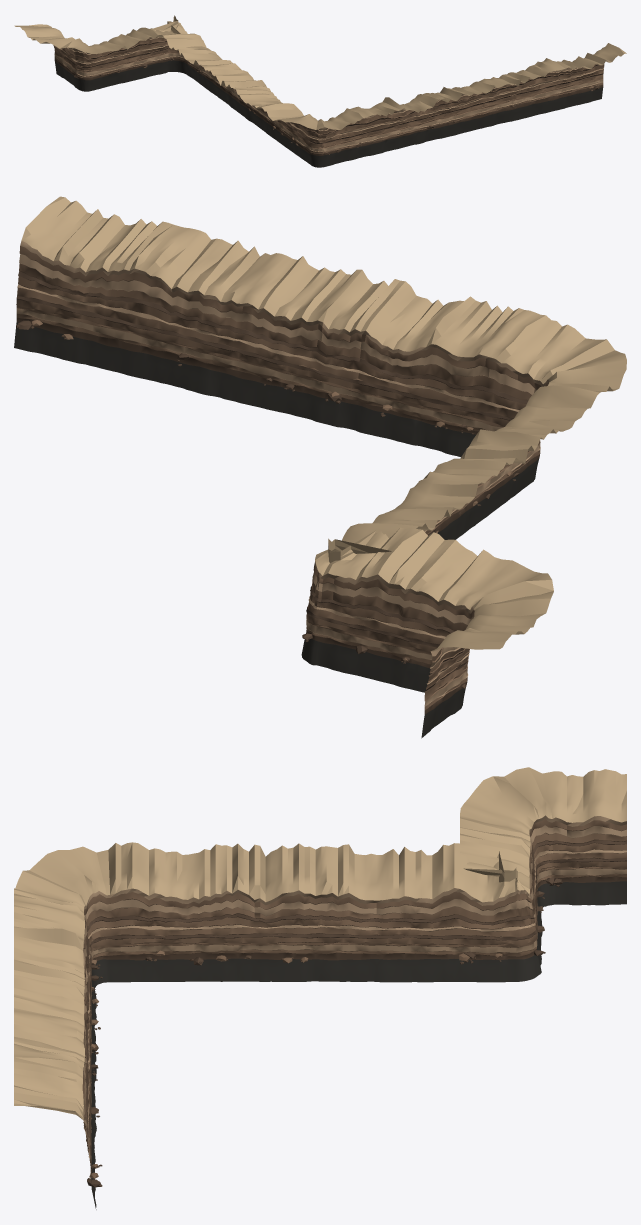
File: borda-quadrante-espelhada.glb
3 views of the same model, one above another, from view 1: azimuth 30°, elevation 25°; view 2: azimuth 150°, elevation 25°; view 3: azimuth 270°, elevation 25° (orthographic). The views are drawn at different scales.
Parts seen in each view (by area): view 1: borda-quadrante-espelhada; view 2: borda-quadrante-espelhada; view 3: borda-quadrante-espelhada.
Part boxes in pixels (<box>): borda-quadrante-espelhada: <box>14,15,626,167</box>; borda-quadrante-espelhada: <box>14,196,626,738</box>; borda-quadrante-espelhada: <box>14,767,626,1209</box>.
Bounding box in the file's own units: 1590 × 229 × 1210.
